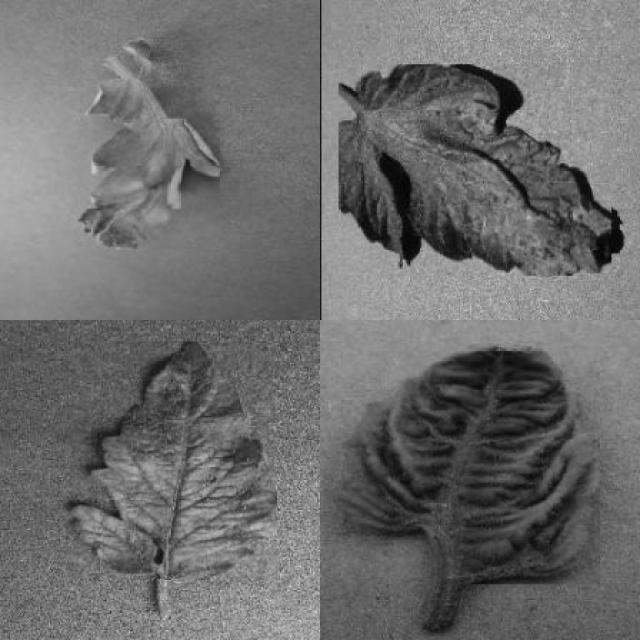Late Blight: (78, 79, 221, 250)
Mosaic Virus: (66, 342, 277, 578)
Septoria: (338, 65, 612, 276)
Yellow Leaf Curl Virus: (332, 343, 600, 584)
